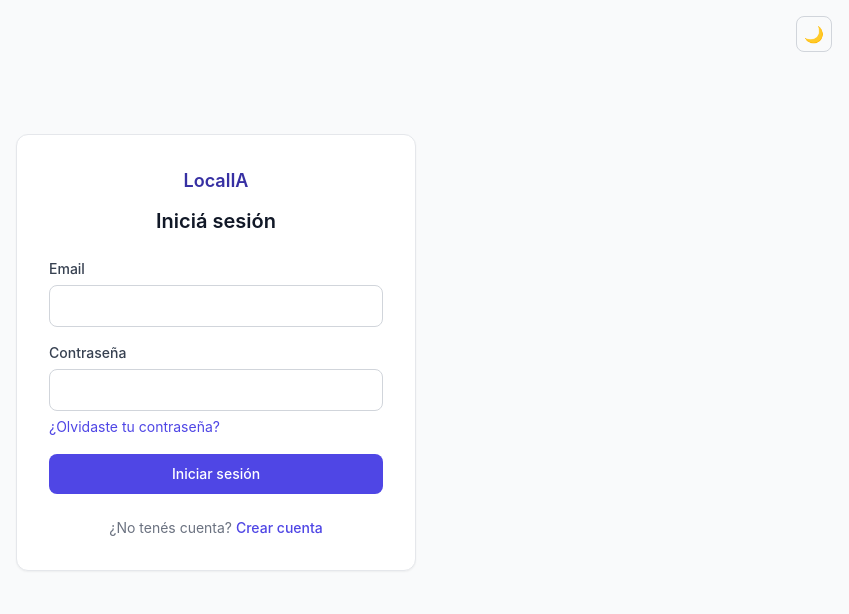
it: LoginPage › muestra errores de validación si se envía el formulario vacío
Click the button "Iniciar sesión". click: {"x": 216, "y": 474}
box: [49,454,383,494]
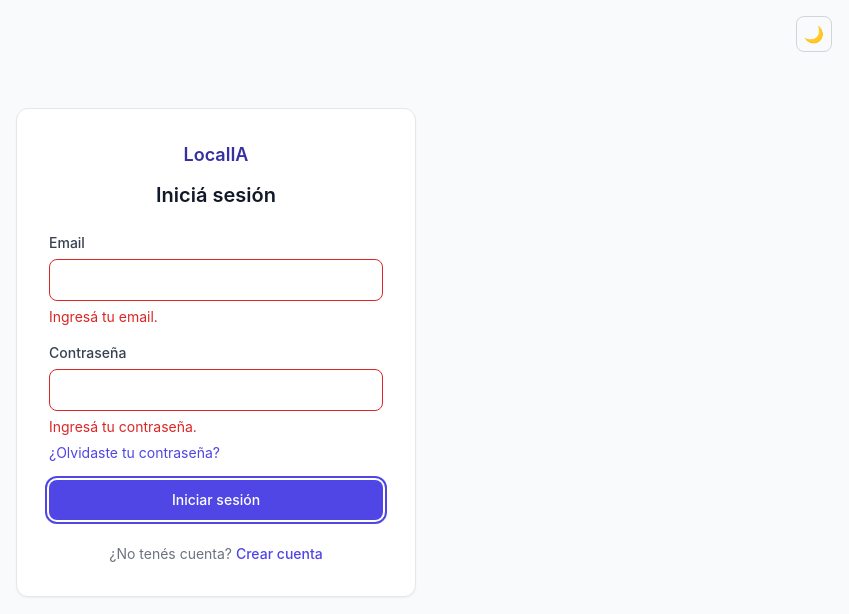
Result: the text "Ingresá tu email." is shown at [49,308,158,324]
Result: the text "Ingresá tu contraseña." is shown at [49,418,197,434]
